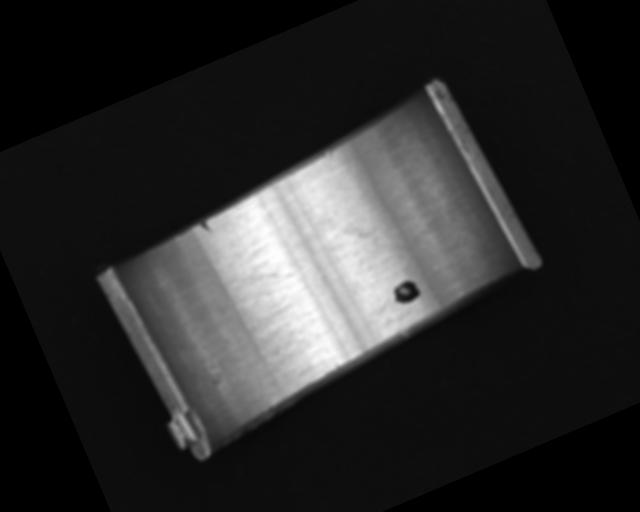blot: (339, 207, 410, 274), (388, 276, 423, 308)
bruise: (198, 218, 213, 236), (323, 148, 335, 159)
